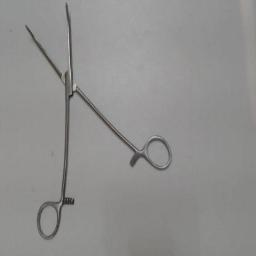Lahey Forceps: (19, 4, 177, 246)
